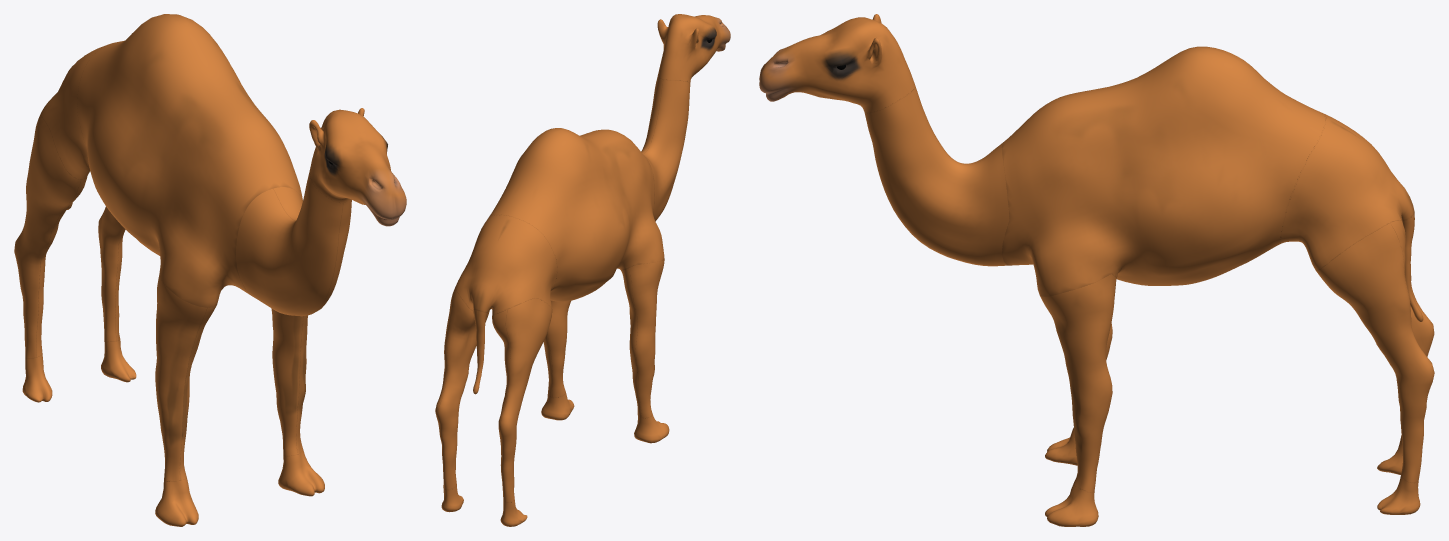
The picture shows the model from 3 angles, left to right: view 1: azimuth 30°, elevation 25°; view 2: azimuth 150°, elevation 25°; view 3: azimuth 270°, elevation 25°; orthographic projection. The views are drawn at different scales.
Visible parts, largest first — view 1: Camel_2; view 2: Camel_2; view 3: Camel_2.
Part boxes in pixels (bbox=[...]): Camel_2: bbox=[14, 14, 406, 526]; Camel_2: bbox=[435, 14, 730, 526]; Camel_2: bbox=[759, 14, 1434, 526].
Size of the model in its own units: 2.95 by 8.24 by 10.71.
Materials: 2 (1 with a texture image).
